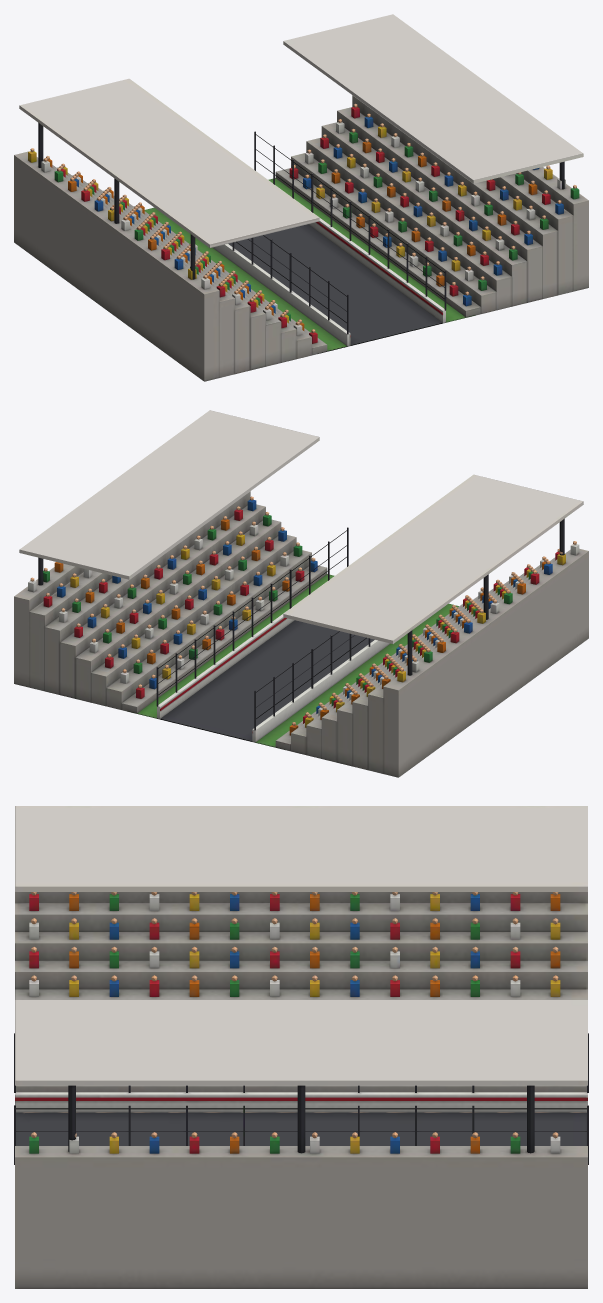
Rendered from grada.glb.
The picture shows the model from 3 angles, top to bottom: view 1: azimuth 30°, elevation 25°; view 2: azimuth 150°, elevation 25°; view 3: azimuth 270°, elevation 25°; orthographic projection. The views are drawn at different scales.
Parts seen in each view (by area): view 1: grada; view 2: grada; view 3: grada.
Part boxes in pixels (left/top/right/bottom): grada: left=14, top=14, right=588, bottom=381; grada: left=14, top=410, right=588, bottom=777; grada: left=14, top=806, right=588, bottom=1288.
Size of the model in its own units: 35 by 11.8 by 30.1.
Materials: 1 (1 with a texture image).
